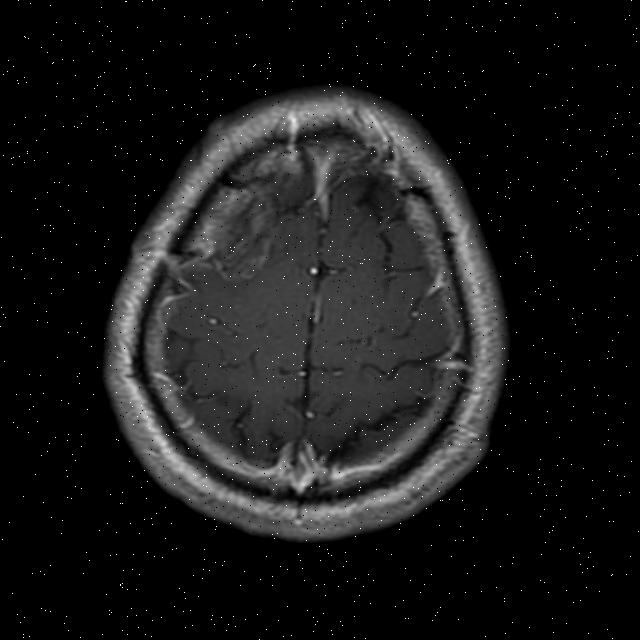Glioma: (205, 193, 282, 288)
